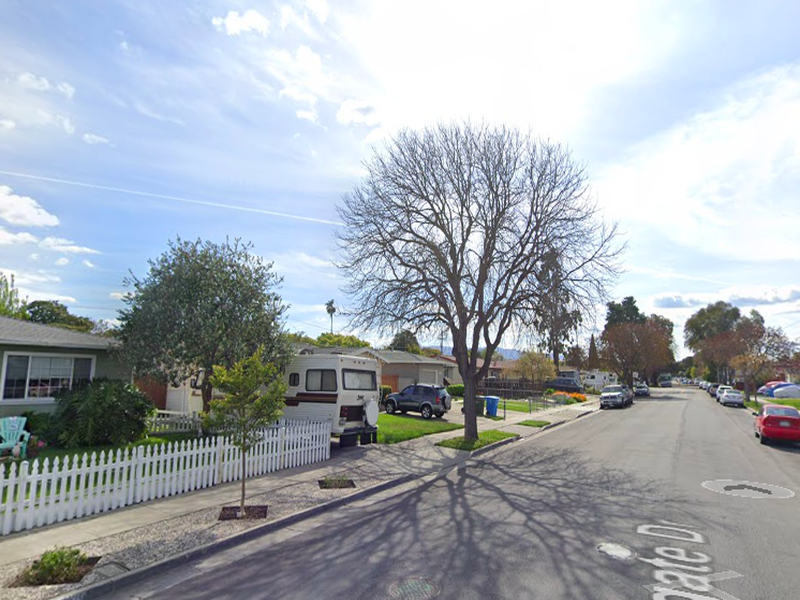tree: (332, 113, 628, 448), (201, 355, 288, 521)
